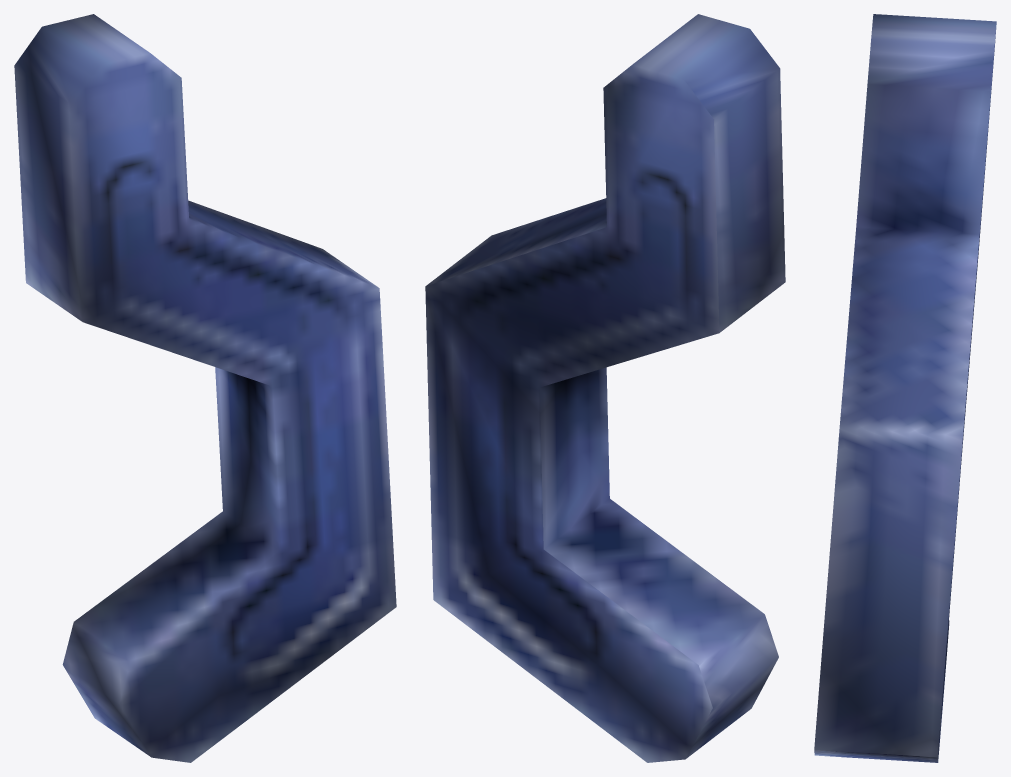
File: Robot01.RightHip2.fbx
3 renders of one model, left to right at view 1: azimuth 30°, elevation 25°; view 2: azimuth 150°, elevation 25°; view 3: azimuth 270°, elevation 25°, orthographic. The views are drawn at different scales.
Visible parts, largest first — view 1: Robot.017; view 2: Robot.017; view 3: Robot.017.
Boxes of the visible parts, x1,y1,x2,y2 form: Robot.017: (14, 14, 396, 762); Robot.017: (425, 14, 785, 762); Robot.017: (814, 14, 996, 762).
Size of the model in its own units: 20.5 by 45.51 by 10.51.
